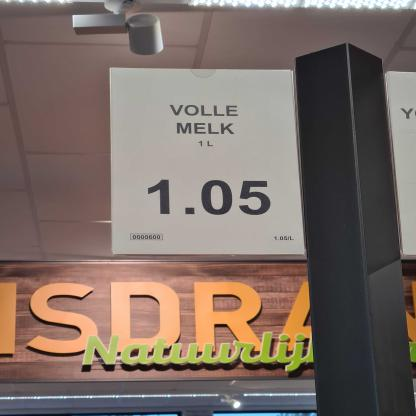prtg: (110, 68, 306, 256)
